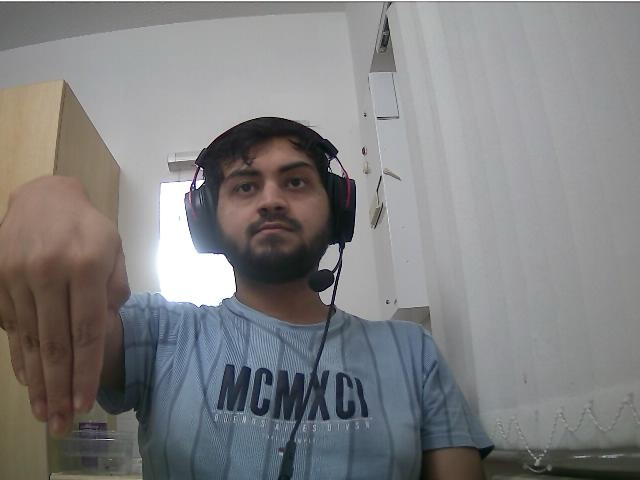down: (1, 176, 114, 437)
